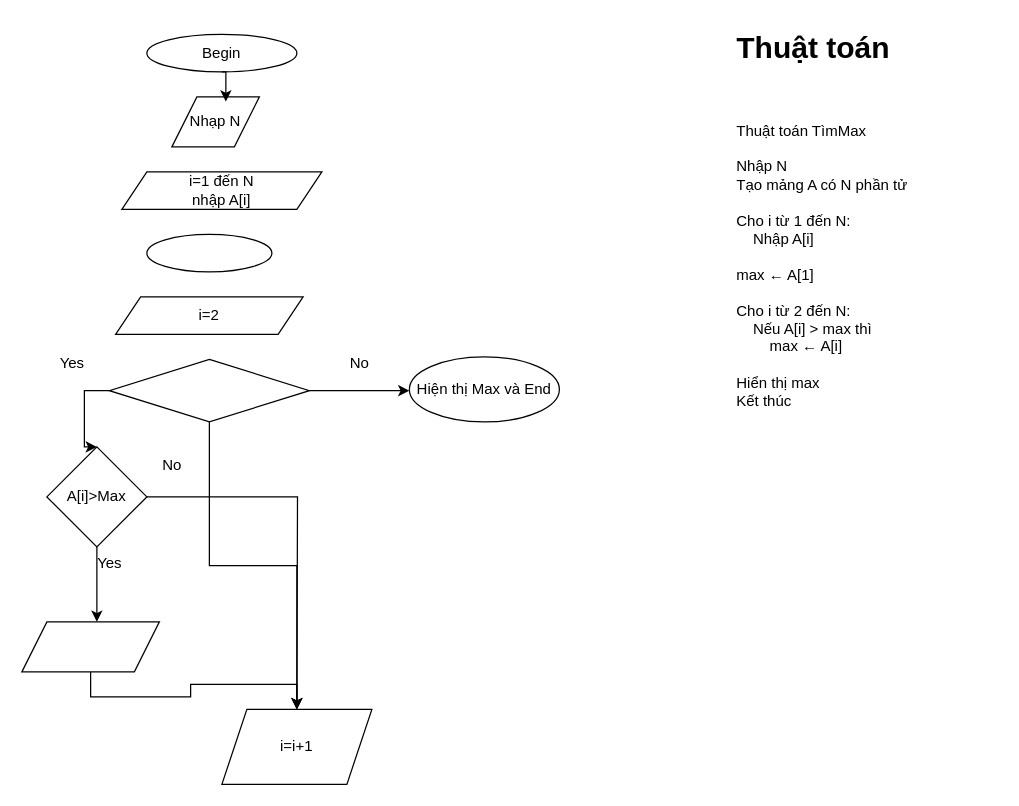
Some shapes in this 1019 by 806 pixel diagram are drawn without their labels. Each missing label, with the centre of its shape:
"A[i]=max" belongs at point 90,646.
"i<=N" belongs at point 208,390.
"max A[1]" belongs at point 209,252.
